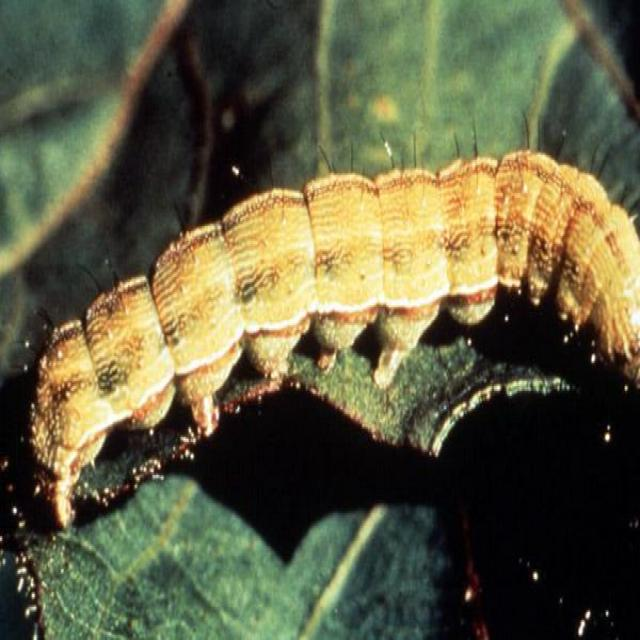armyworm: (32, 142, 640, 540)
